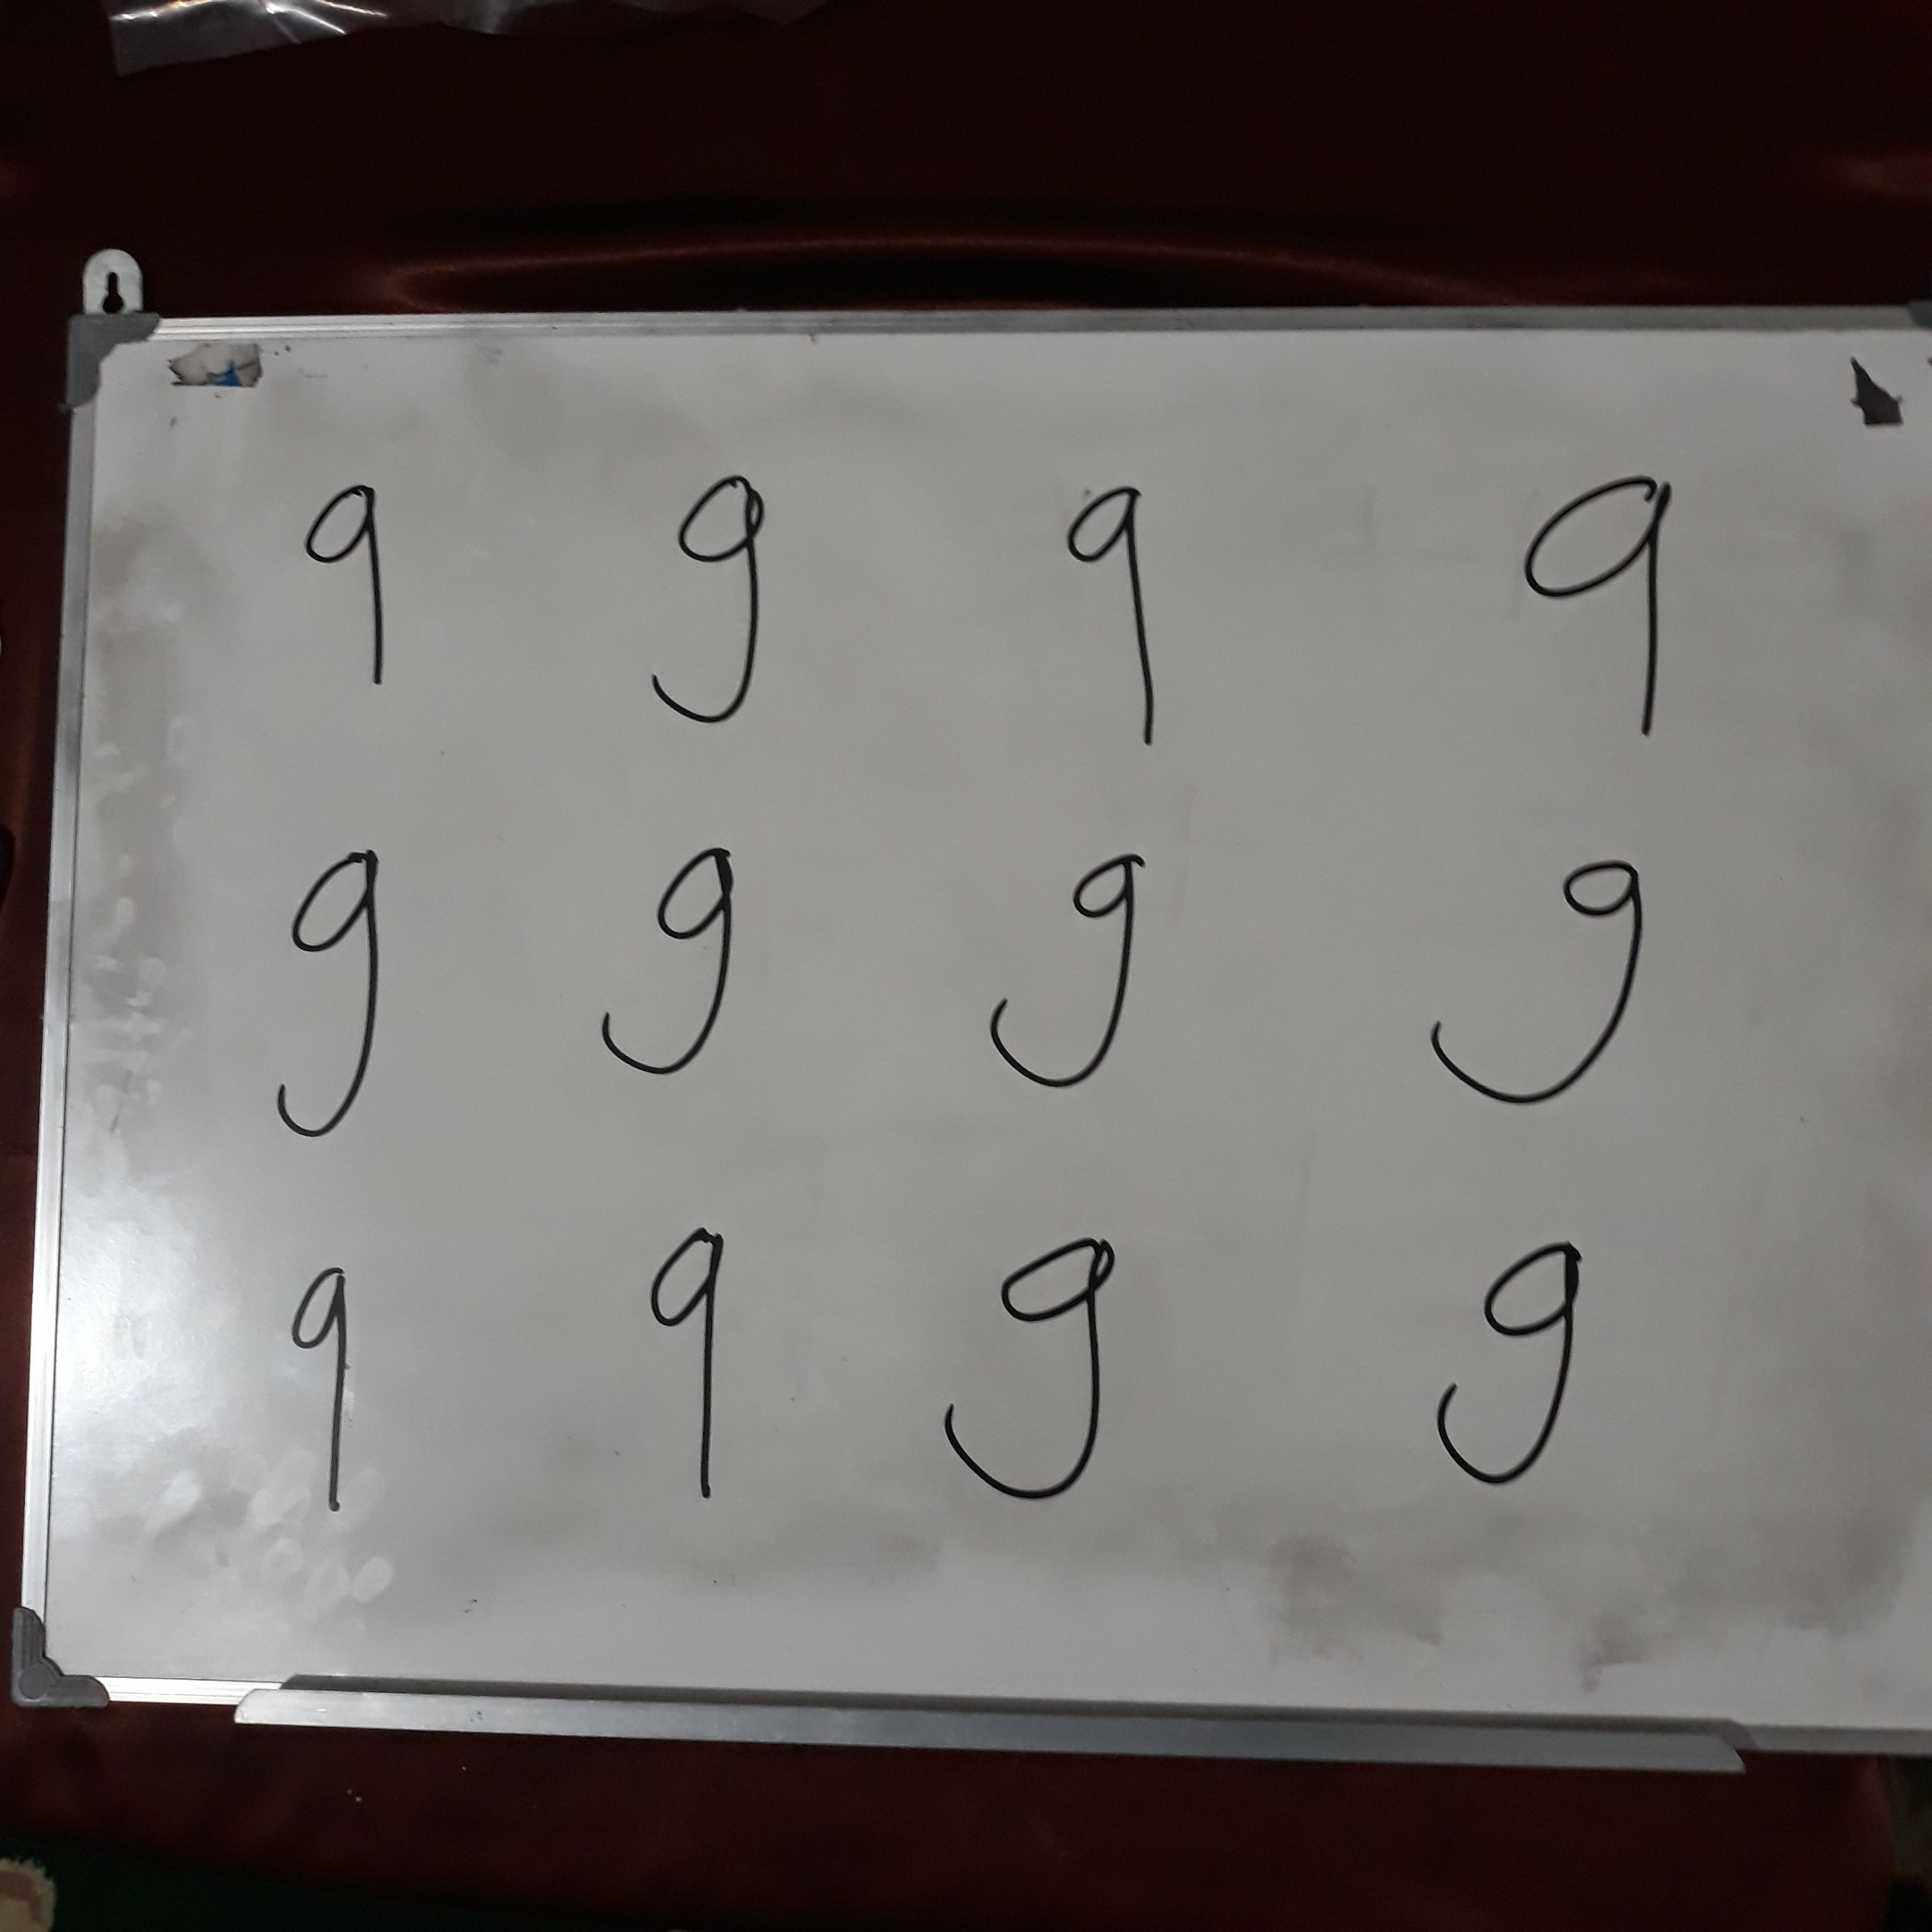num9: (1411, 846, 1670, 1115), (925, 1205, 1139, 1523), (1514, 437, 1685, 768), (1413, 1225, 1597, 1501), (253, 827, 404, 1145), (977, 835, 1156, 1100), (268, 443, 427, 716), (594, 837, 751, 1091), (1055, 465, 1193, 756), (634, 465, 775, 739), (631, 1220, 751, 1523), (264, 1259, 395, 1527)
